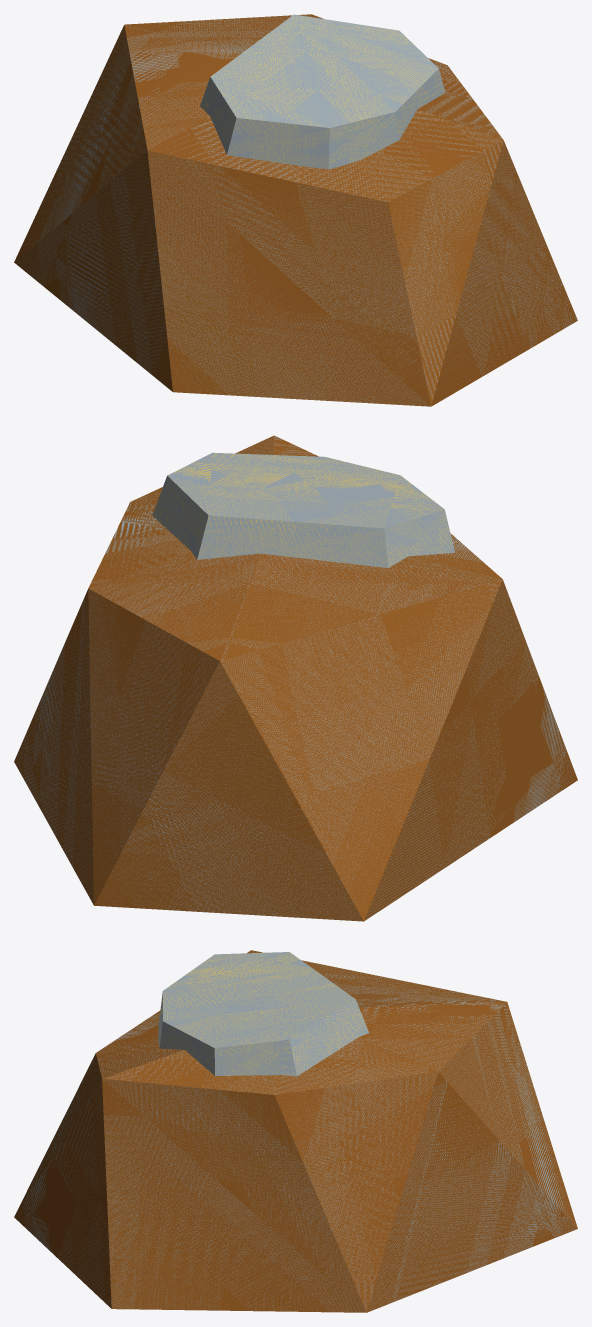
The model's file is Rock_Small_Dirt_Sand_02.fbx.
3 views of the same model, one above another, from view 1: azimuth 30°, elevation 25°; view 2: azimuth 150°, elevation 25°; view 3: azimuth 270°, elevation 25° (orthographic). The views are drawn at different scales.
Parts seen in each view (by area): view 1: Model; view 2: Model; view 3: Model.
Part boxes in pixels (box(x1,y1,x2,y2)): Model: box(14, 14, 577, 406); Model: box(14, 435, 577, 921); Model: box(14, 950, 577, 1312).
Bounding box in the file's own units: 82.66 × 63.11 × 110.
